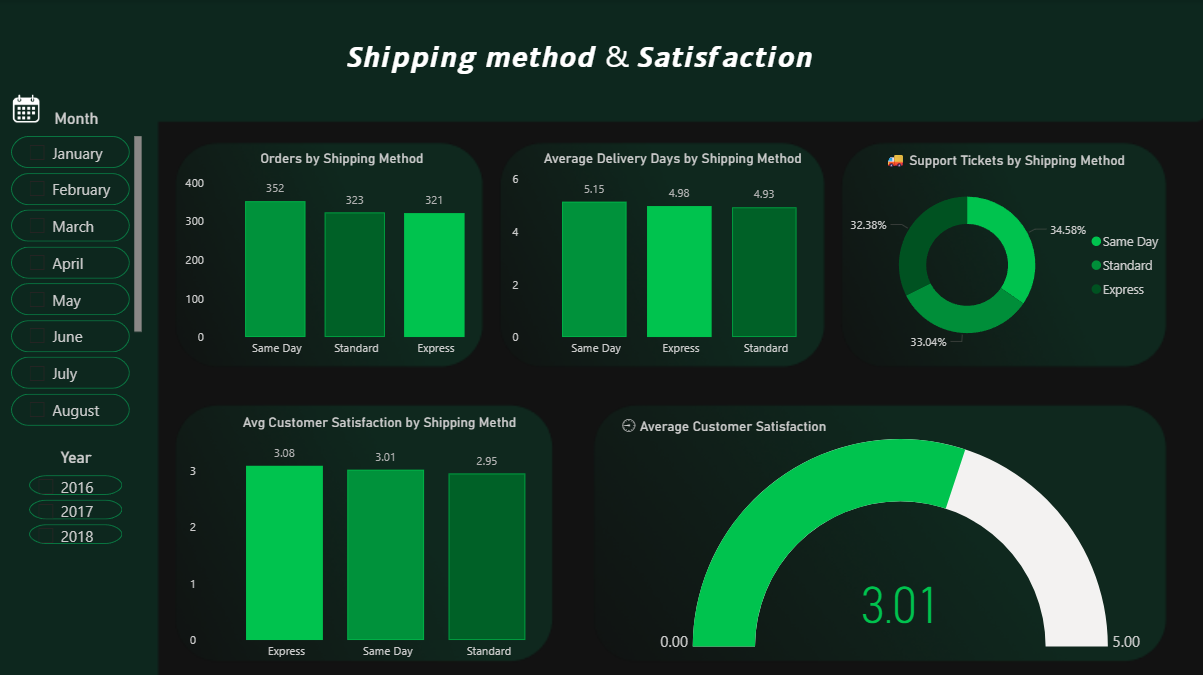

Layout of this report page (visuals, bound fields, positions):
{"tool":"powerbi","page":{"name":"Operations","canvas":[1280,720],"ordinal":3},"visuals":[{"type":"clusteredColumnChart","title":"Orders by Shipping Method","fields":{"Category":["public dim_delivery.shipping_method"],"Y":["public fact_sales.Total Orders"]},"box":[194.1,160.7,343.6,227.5],"z":0},{"type":"clusteredColumnChart","title":"Average Delivery Days by Shipping Method","fields":{"Category":["public dim_delivery.shipping_method"],"Y":["Avg(public dim_delivery.delivery_days)"]},"box":[540.8,160.7,351.5,227.5],"z":1000},{"type":"clusteredColumnChart","title":"Avg Customer Satisfaction by Shipping Methd","fields":{"Category":["public dim_delivery.shipping_method"],"Y":["Avg(public dim_delivery.customer_satisfaction)"]},"box":[198.8,440.6,413.6,268.8],"z":2000},{"type":"gauge","title":"⏲ Average Customer Satisfaction","fields":{"Y":["Avg(public dim_delivery.customer_satisfaction)"]},"box":[656.9,440.6,601.3,256.1],"z":3000},{"type":"donutChart","title":"🚚 Support Tickets by Shipping Method","fields":{"Category":["public dim_delivery.shipping_method"],"Y":["CountNonNull(public dim_delivery.support_tickets)"]},"box":[892.3,159.1,353.1,229],"z":4000},{"type":"listSlicer","fields":{"Values":["public dim_date.full_date.Variation.Date Hierarchy.Month"]},"box":[9.5,116.1,149.5,348.3],"z":5000},{"type":"listSlicer","fields":{"Values":["public dim_date.full_date.Variation.Date Hierarchy.Year"]},"box":[28.6,475.6,109.8,245],"z":6000},{"type":"image","box":[0,85.9,62,60.4],"z":7000},{"type":"textbox","box":[365.8,31.8,598.1,84.3],"z":8000}]}

Visuals, with their boxes in screenshot pixels (x1, y1, x2, y2), scaled from the page's 1280x720 canvas onto the 1203x675 screenshot:
"Orders by Shipping Method" clusteredColumnChart: <bbox>182, 151, 505, 364</bbox>
"Average Delivery Days by Shipping Method" clusteredColumnChart: <bbox>508, 151, 839, 364</bbox>
"Avg Customer Satisfaction by Shipping Methd" clusteredColumnChart: <bbox>187, 413, 576, 665</bbox>
"⏲ Average Customer Satisfaction" gauge: <bbox>617, 413, 1183, 653</bbox>
"🚚 Support Tickets by Shipping Method" donutChart: <bbox>839, 149, 1170, 364</bbox>
listSlicer - public dim_date.full_date.Variation.Date Hierarchy.Month: <bbox>9, 109, 149, 435</bbox>
listSlicer - public dim_date.full_date.Variation.Date Hierarchy.Year: <bbox>27, 446, 130, 674</bbox>
image: <bbox>0, 81, 58, 137</bbox>
textbox: <bbox>344, 30, 906, 109</bbox>
